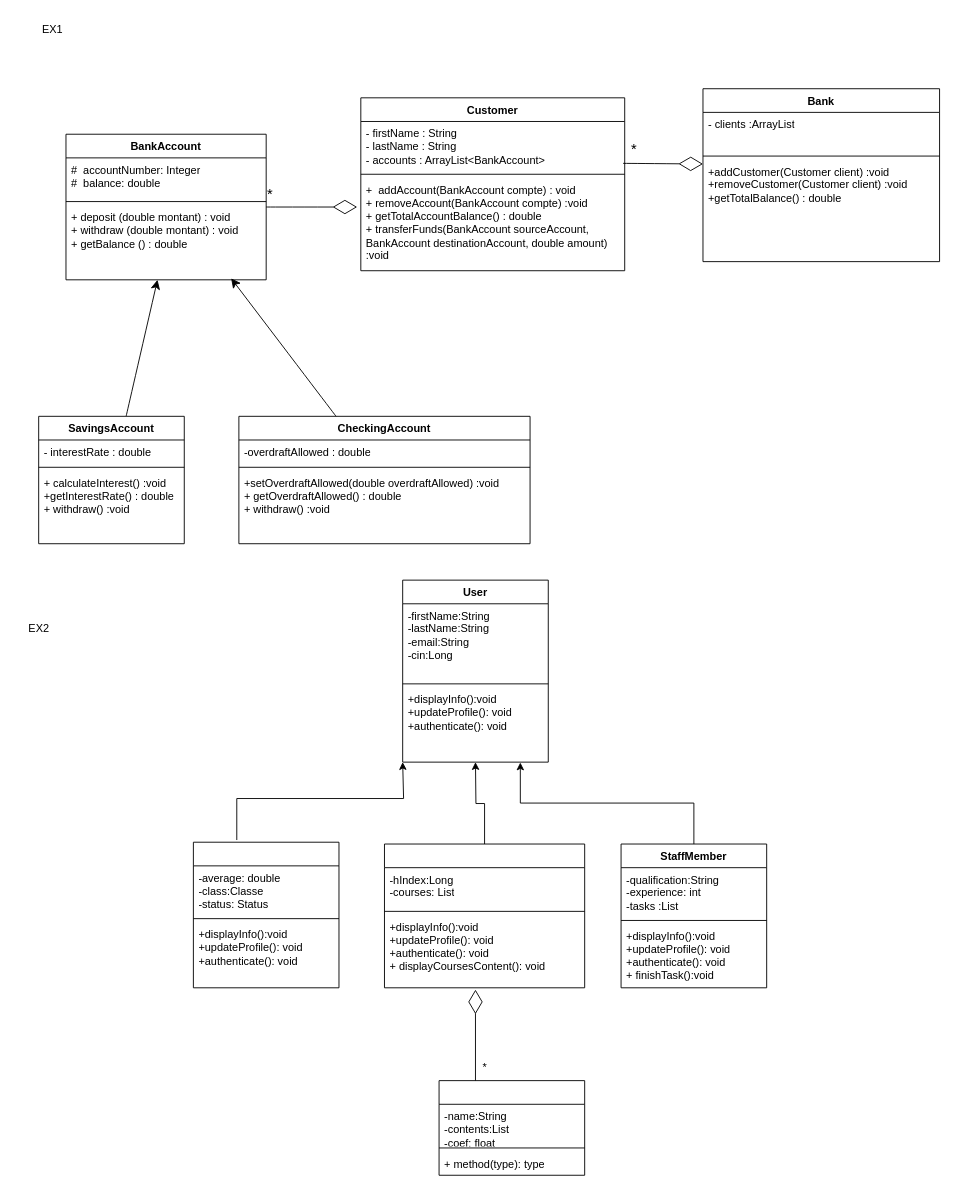
This 956x1193 diagram has some shape labels left out. The box of each missing label's shape, as (x1, y1, x2, y2) in pixels:
Course: (438, 1080, 585, 1175)
Student: (192, 841, 339, 988)
Teacher: (384, 843, 585, 988)
